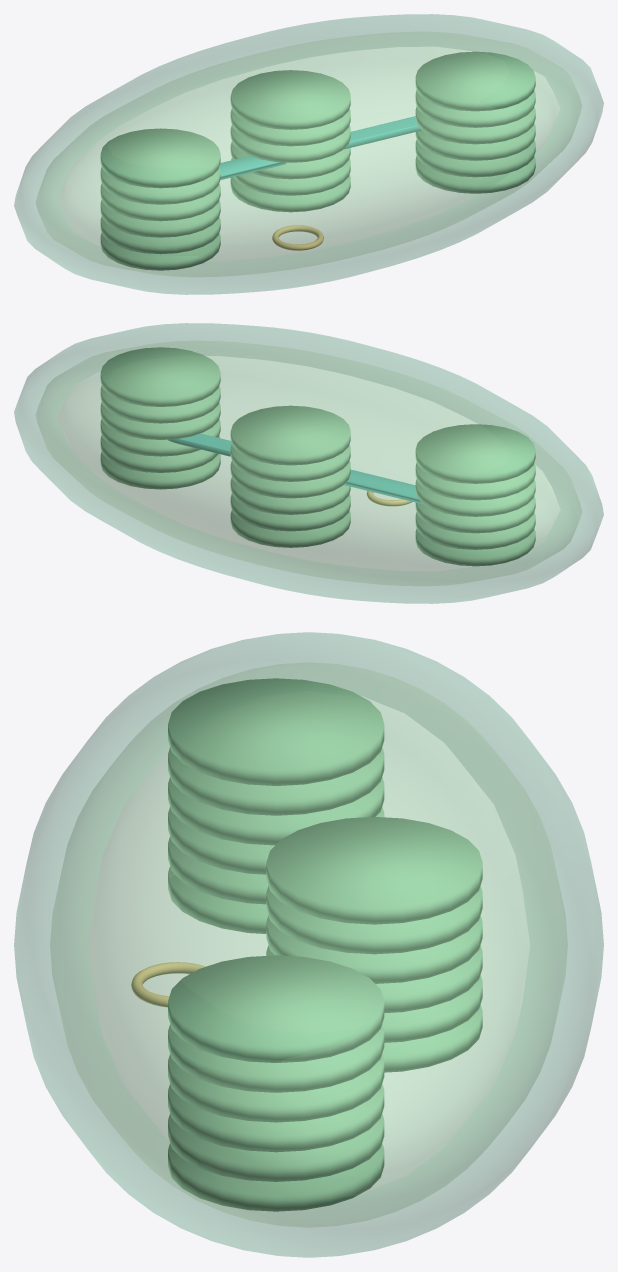
The model's file is chloroplast.glb.
3 views of the same model, one above another, from view 1: azimuth 30°, elevation 25°; view 2: azimuth 150°, elevation 25°; view 3: azimuth 270°, elevation 25° (orthographic). The views are drawn at different scales.
Visible parts, largest first — view 1: Outer envelope, Stroma, Inner envelope, Granum 1, Granum 3, Granum 2, Stroma lamella right, Stroma lamella left, Chloroplast DNA; view 2: Outer envelope, Stroma, Inner envelope, Granum 1, Granum 2, Granum 3, Stroma lamella left, Stroma lamella right; view 3: Outer envelope, Stroma, Granum 3, Inner envelope, Granum 1, Granum 2, Chloroplast DNA.
Part boxes in pixels (x1,y1,x2,y2): Outer envelope: (14, 14, 603, 294); Stroma: (58, 47, 559, 261); Inner envelope: (36, 32, 581, 276); Granum 1: (100, 128, 220, 270); Granum 3: (415, 51, 535, 193); Granum 2: (230, 70, 350, 212); Stroma lamella right: (344, 116, 421, 149); Stroma lamella left: (219, 156, 286, 179); Chloroplast DNA: (272, 225, 323, 250); Outer envelope: (14, 323, 603, 603); Stroma: (58, 356, 559, 570); Inner envelope: (36, 341, 581, 585); Granum 1: (415, 424, 535, 566); Granum 2: (230, 405, 350, 547); Granum 3: (100, 347, 220, 489); Stroma lamella left: (344, 469, 423, 504); Stroma lamella right: (168, 433, 231, 456); Outer envelope: (14, 632, 603, 1257); Stroma: (88, 698, 529, 1197); Granum 3: (168, 955, 384, 1211); Inner envelope: (50, 663, 567, 1226); Granum 1: (168, 678, 384, 933); Granum 2: (266, 817, 482, 1072); Chloroplast DNA: (131, 962, 205, 1007).
Bounding box in the file's own units: 7.2 × 2.6 × 3.6.
